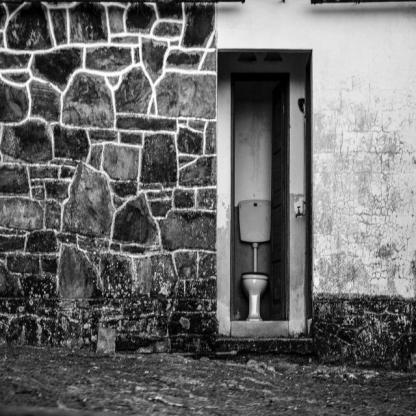door: (219, 55, 294, 328)
